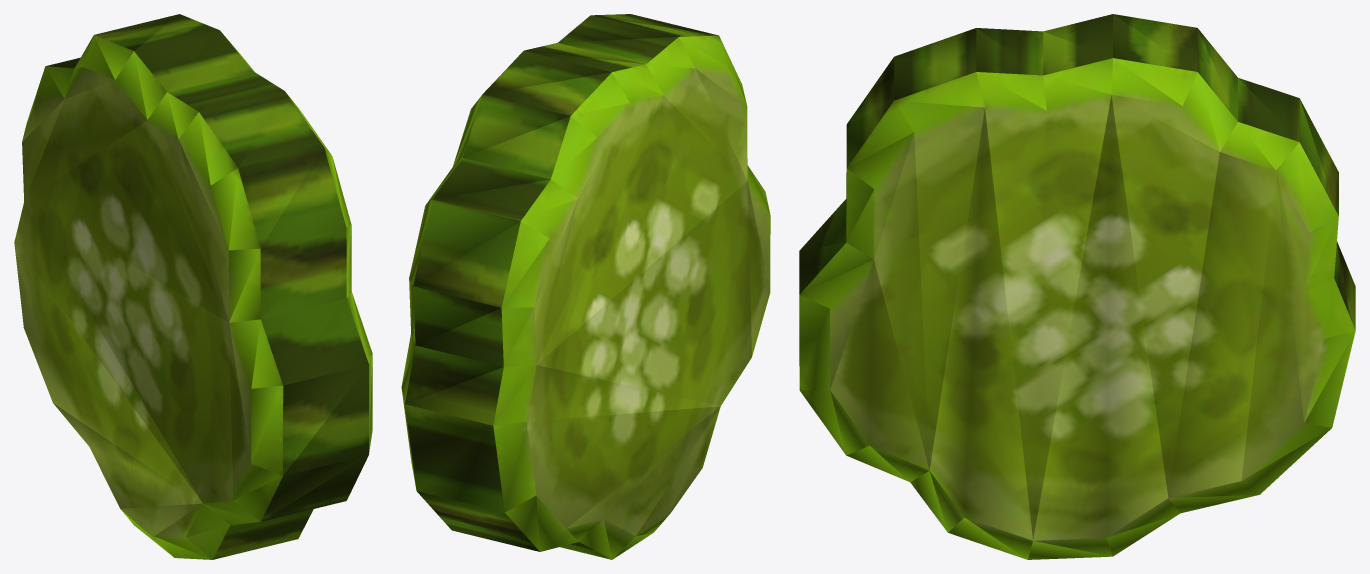
The model's file is Pepinillo.obj.
3 views of the same model, side by side, from view 1: azimuth 30°, elevation 25°; view 2: azimuth 150°, elevation 25°; view 3: azimuth 270°, elevation 25° (orthographic). The views are drawn at different scales.
Visible parts, largest first — view 1: Pepinillo:Rotator3; view 2: Pepinillo:Rotator3; view 3: Pepinillo:Rotator3.
Boxes of the visible parts, box(x1,y1,x2,y2) form: Pepinillo:Rotator3: box(14, 14, 372, 559); Pepinillo:Rotator3: box(401, 14, 770, 559); Pepinillo:Rotator3: box(799, 14, 1355, 559).
Size of the model in its own units: 0.0455 by 0.1694 by 0.1702.
1 material, 1 textured.
